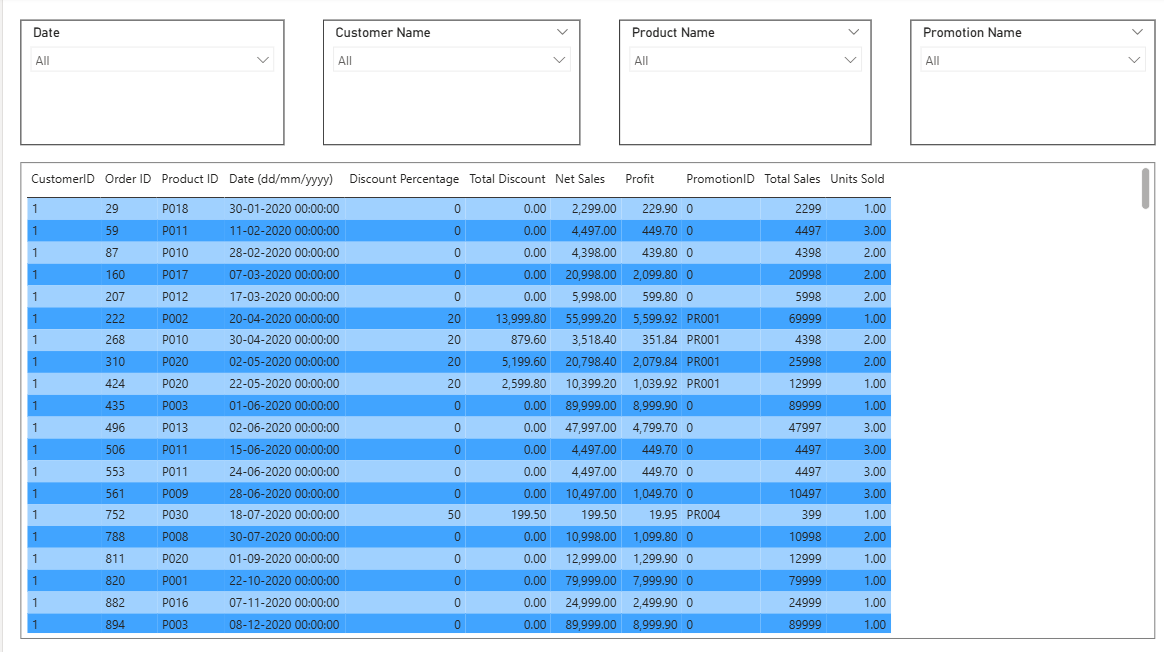

The dashboard page shown, as its layout file describes it:
{"tool":"powerbi","page":{"name":"Requirement 1","canvas":[1280,720],"ordinal":3},"visuals":[{"type":"tableEx","fields":{"Values":["Fact Table.CustomerID","Fact Table.Order ID","Fact Table.Product ID","Fact Table.Date (dd/mm/yyyy)","Fact Table.Discount Percentage","Fact Table.Discount Value","Fact Table.Net Sales   ","Fact Table.Profit","Fact Table.PromotionID","Fact Table.Total Sales","Fact Table.Units Sold"]},"box":[19.2,182.5,1246,522.8],"z":0},{"type":"slicer","fields":{"Values":["Date Table 1.Date"]},"box":[19.2,26.1,289.5,137.2],"z":1000},{"type":"slicer","fields":{"Values":["Dim Customers.Customer Name"]},"box":[351.3,26.1,282.7,137.2],"z":2000},{"type":"slicer","fields":{"Values":["Dim Product.Product Name"]},"box":[676.5,26.1,277.2,137.2],"z":3000},{"type":"slicer","fields":{"Values":["Dim Promotion.Promotion Name"]},"box":[996.2,26.1,269,137.2],"z":4000}]}

Visuals, with their boxes in screenshot pixels (x1, y1, x2, y2), scaled from the page's 1280x720 canvas onto the 1164x652 screenshot:
tableEx - Fact Table.CustomerID x Fact Table.Order ID: (17,165,1151,639)
slicer - Date Table 1.Date: (17,24,281,148)
slicer - Dim Customers.Customer Name: (319,24,577,148)
slicer - Dim Product.Product Name: (615,24,867,148)
slicer - Dim Promotion.Promotion Name: (906,24,1151,148)
